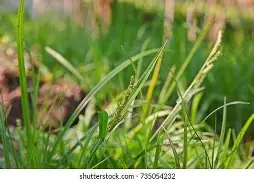weed: (0, 0, 253, 167)
